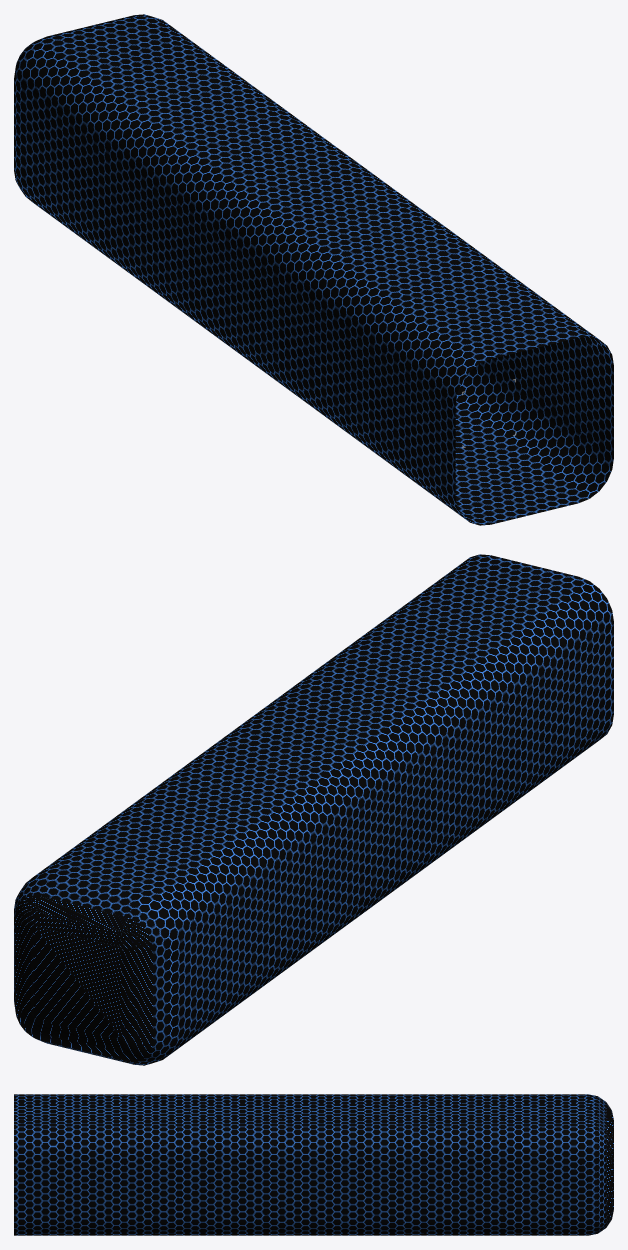
File: frame.glb
3 renders of one model, top to bottom at view 1: azimuth 30°, elevation 25°; view 2: azimuth 150°, elevation 25°; view 3: azimuth 270°, elevation 25°, orthographic. The views are drawn at different scales.
Parts seen in each view (by area): view 1: Plane.002; view 2: Plane.002; view 3: Plane.002.
Boxes of the visible parts, x1,y1,x2,y2 form: Plane.002: (14, 14, 613, 525); Plane.002: (14, 554, 613, 1065); Plane.002: (14, 1094, 613, 1235).
Bounding box in the file's own units: 20.13 × 20.13 × 101.
Materials: 2 (2 with a texture image).
